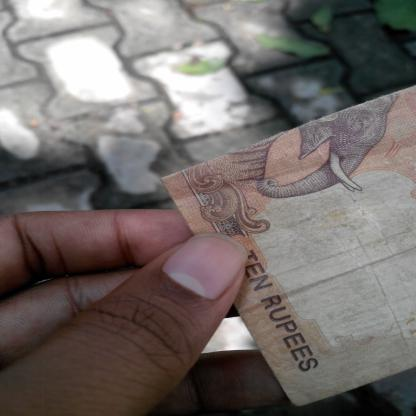Old10Back: (162, 81, 416, 410)
